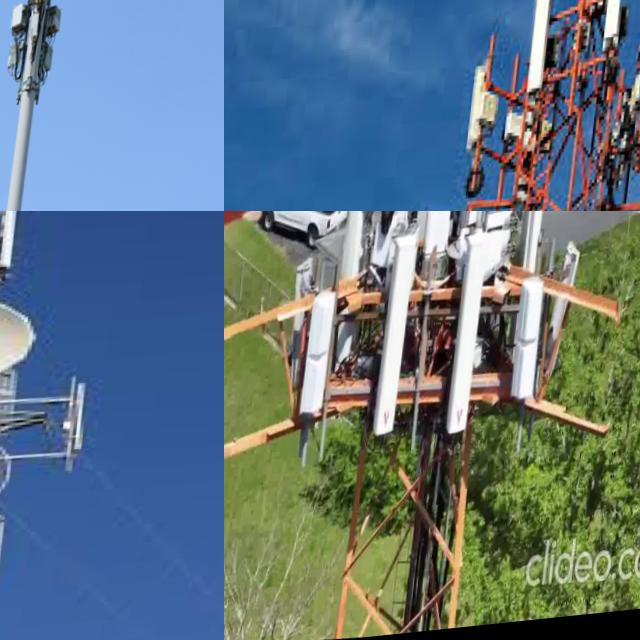GSM Antenna: (375, 235, 426, 453), (450, 234, 500, 452), (549, 236, 592, 396), (301, 292, 348, 428), (510, 281, 555, 422), (279, 250, 324, 387), (466, 65, 501, 161), (341, 211, 380, 291), (520, 211, 560, 286), (528, 0, 559, 96), (423, 211, 463, 270), (0, 211, 29, 288), (601, 0, 633, 54)
Microwave Antenna: (50, 376, 114, 485), (0, 299, 54, 403)
